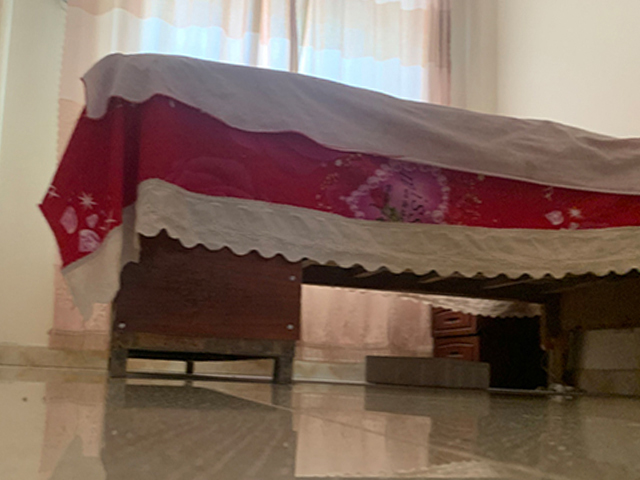bed: (37, 53, 640, 381)
cabinet: (429, 304, 547, 391)
curtain: (47, 1, 453, 368)
